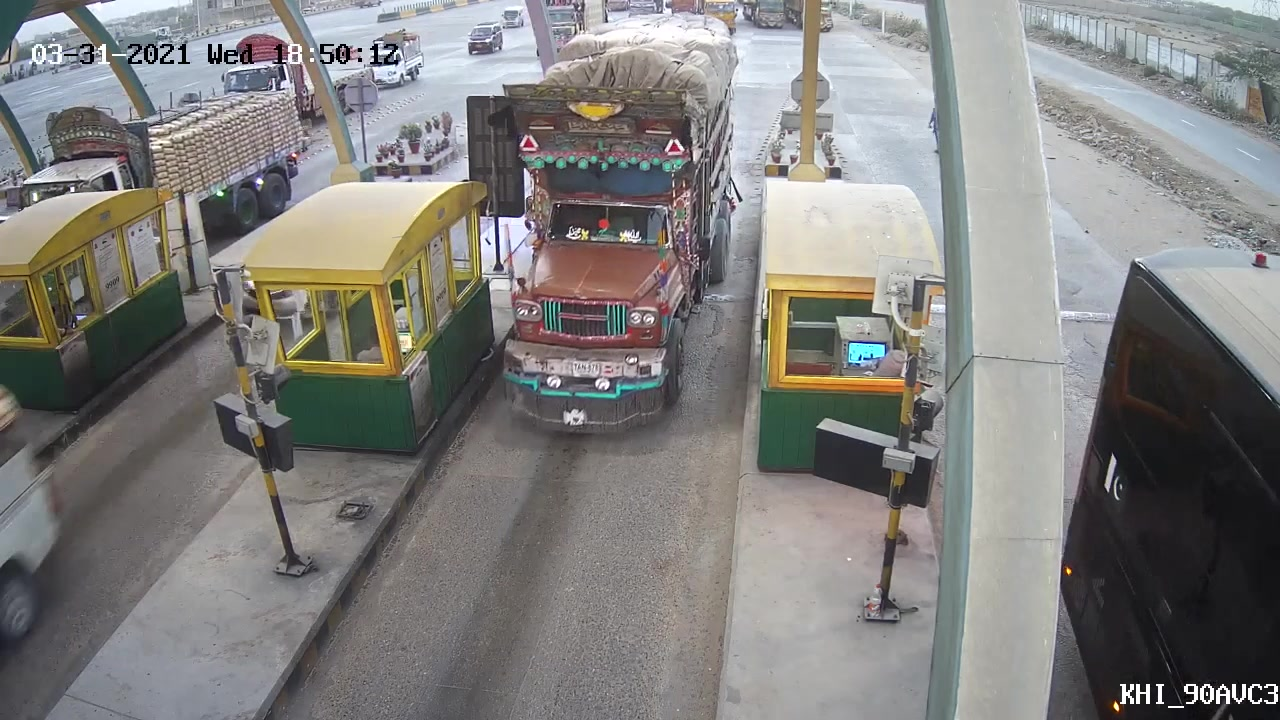F5: (493, 17, 751, 429)
